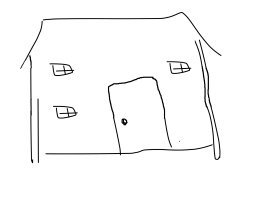closed_window: (47, 60, 78, 81), (51, 101, 80, 123), (163, 57, 194, 77)
door: (104, 73, 176, 156)
single_line_roof: (11, 11, 225, 61)
wall: (24, 52, 214, 160)
